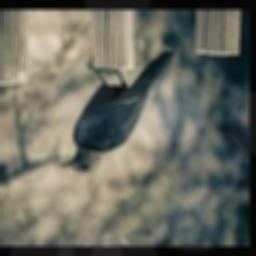Crow: (60, 51, 176, 176)
